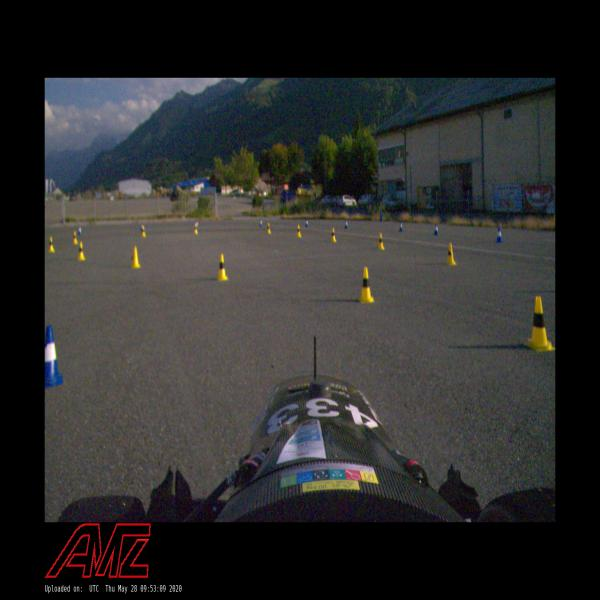blue_cone: (45, 324, 63, 388), (495, 228, 503, 243), (434, 224, 439, 236), (78, 225, 82, 236), (399, 222, 403, 232), (344, 220, 348, 229), (259, 218, 263, 227), (305, 219, 308, 227)
yellow_cone: (522, 297, 555, 351), (357, 268, 376, 304), (215, 254, 228, 281), (445, 242, 457, 266), (130, 246, 140, 268), (77, 242, 85, 260), (377, 232, 384, 251), (47, 236, 55, 252), (295, 224, 302, 238), (330, 228, 336, 243), (72, 231, 78, 245), (141, 225, 147, 238), (266, 223, 271, 234), (193, 224, 198, 234)
